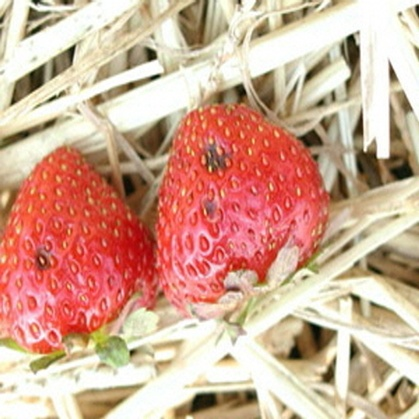Anthracnose_FR: (54, 145, 391, 264), (186, 175, 229, 280)
